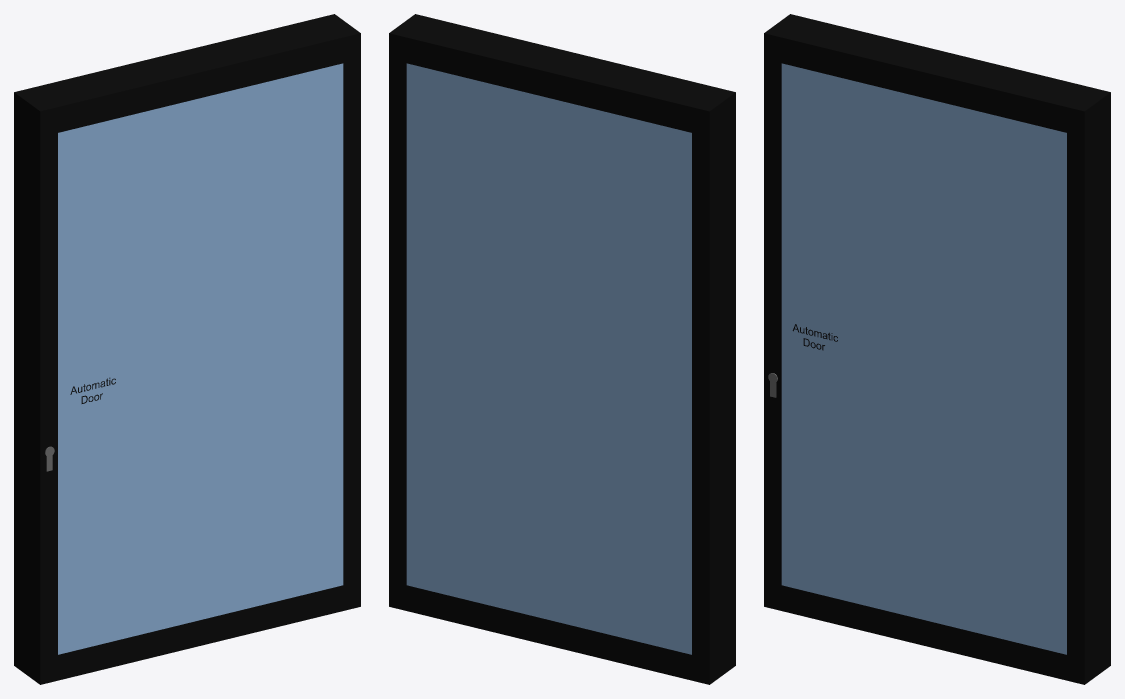
The model's file is RightSide.FBX.
3 renders of one model, left to right at view 1: azimuth 30°, elevation 25°; view 2: azimuth 150°, elevation 25°; view 3: azimuth 330°, elevation 25°, orthographic.
Parts seen in each view (by area): view 1: Box003; view 2: Box003; view 3: Box003.
Boxes of the visible parts, x1,y1,x2,y2 form: Box003: (14,14,360,684); Box003: (389,14,735,684); Box003: (764,14,1110,684).
Bounding box in the file's own units: 77.18 × 132 × 11.28.
